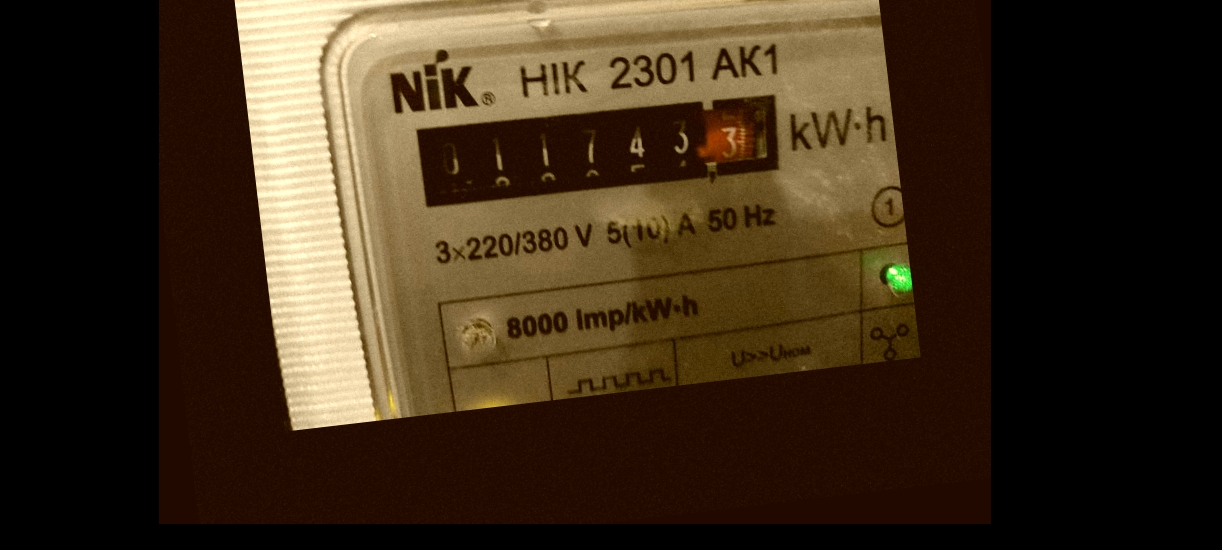0: (437, 137, 463, 179), (486, 131, 509, 174)
1: (533, 127, 554, 170)
3: (668, 114, 692, 159), (717, 121, 741, 161)
4: (623, 119, 647, 161)
7: (576, 121, 604, 167)
screen: (395, 73, 793, 224)
